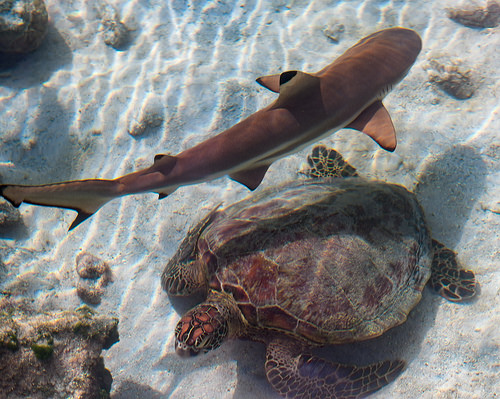shark: (3, 9, 428, 238)
